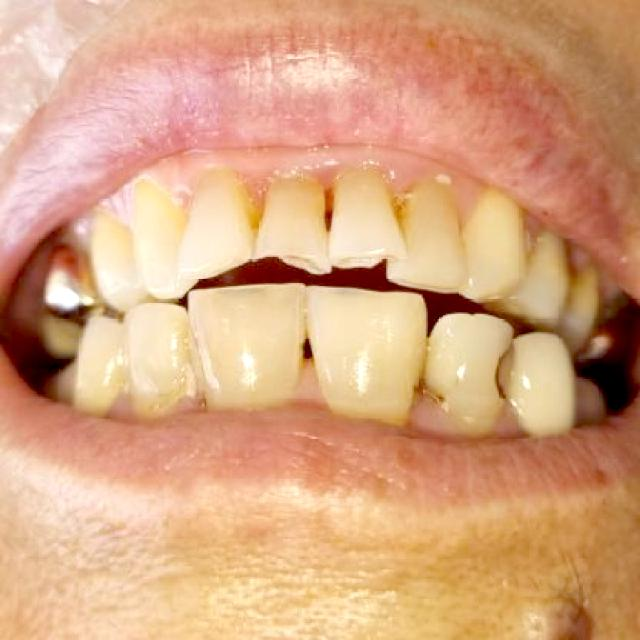Plaque: (395, 377, 462, 429)
